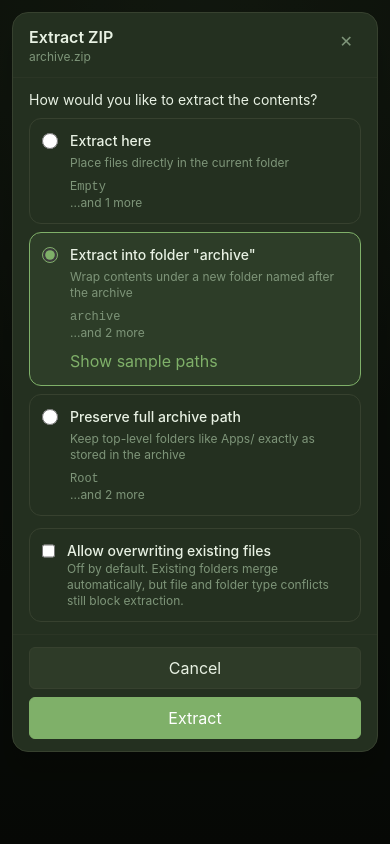
Test: ZipExtractDialog › keeps mobile sample paths collapsed until requested
Click the button "Show sample paths" at (144, 361), box [70,349,218,373]
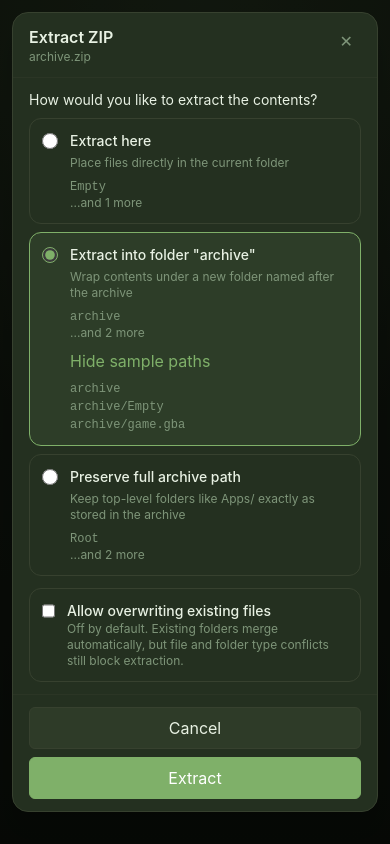
Expected: the button "Hide sample paths" is expanded, [70,349,210,373]
